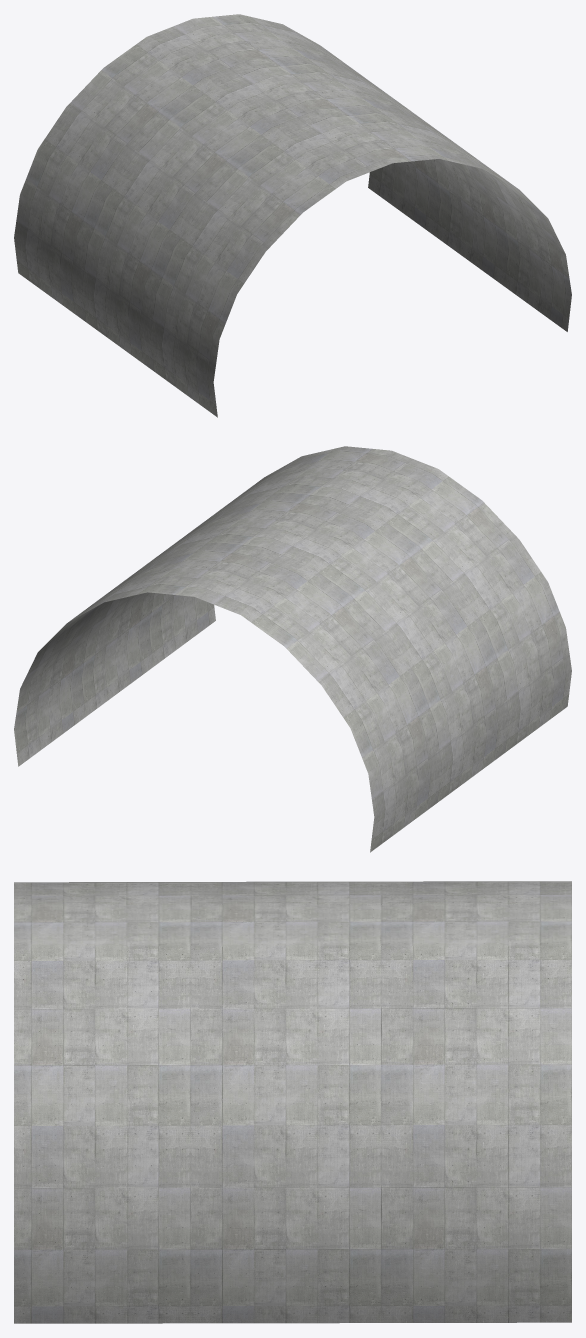
File: Tunnel_P1.fbx
3 views of the same model, one above another, from view 1: azimuth 30°, elevation 25°; view 2: azimuth 150°, elevation 25°; view 3: azimuth 270°, elevation 25° (orthographic). The views are drawn at different scales.
Visible parts, largest first — view 1: Tunnel_P1; view 2: Tunnel_P1; view 3: Tunnel_P1.
Part boxes in pixels (x1,y1,x2,y2): Tunnel_P1: (14,14,571,417); Tunnel_P1: (14,446,571,852); Tunnel_P1: (14,881,571,1323).
Bounding box in the file's own units: 1227 × 690 × 1170.
Materials: 1 (1 with a texture image).
